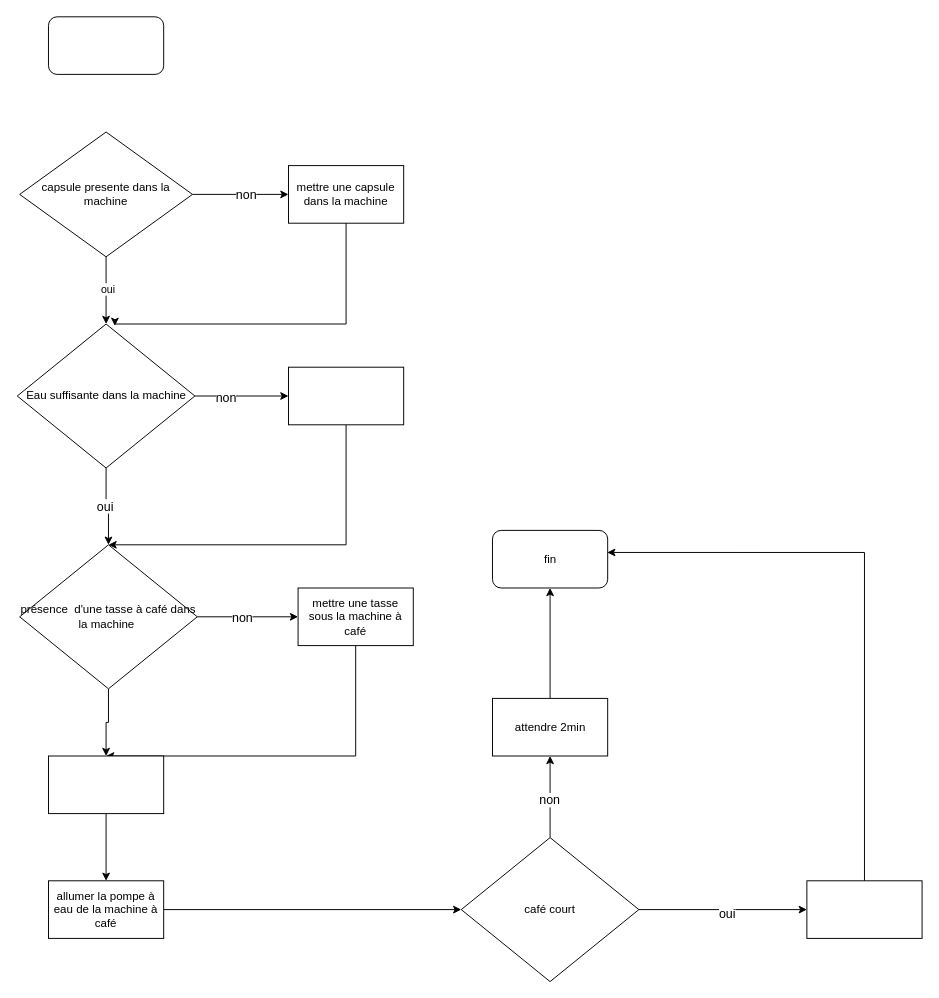
Image size: 939x998. Some labels were removed from this diagram. The shapes that lost their labels are listed below. From the top down, each one's box as (x1, y1, x2, y2) in pixels, then its label:
(48, 16, 164, 74): debut
(288, 366, 404, 425): rajouter de l'eau dans la machine
(48, 755, 164, 814): allumer le chauffage de la machine à café
(806, 880, 922, 938): attendre 1min
